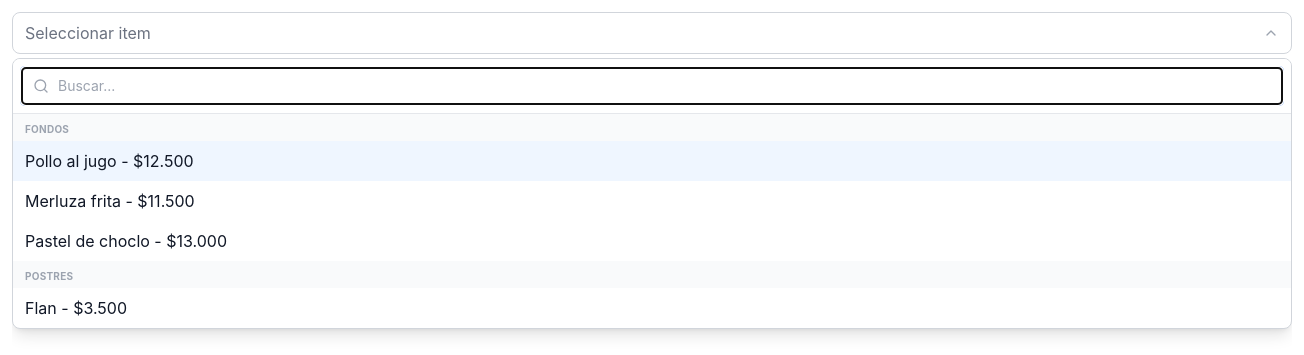
it: AgregadorDeItems — el buscador › NO busca por el apunte: escribir un precio no trae platos
Type "500" into the field with placeholder "Buscar..." at (652, 86), box [21,67,1283,105]
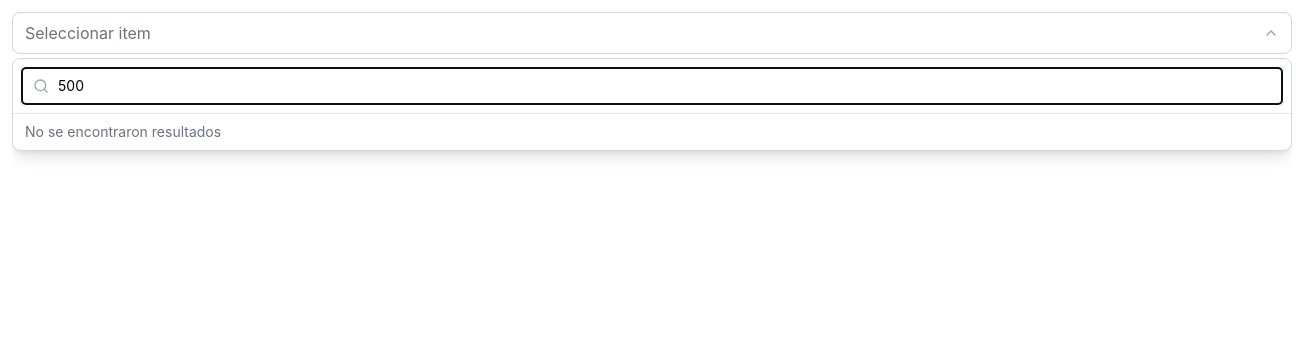
Check: the text "No se encontraron resultados" is shown, box [25,123,221,140]
